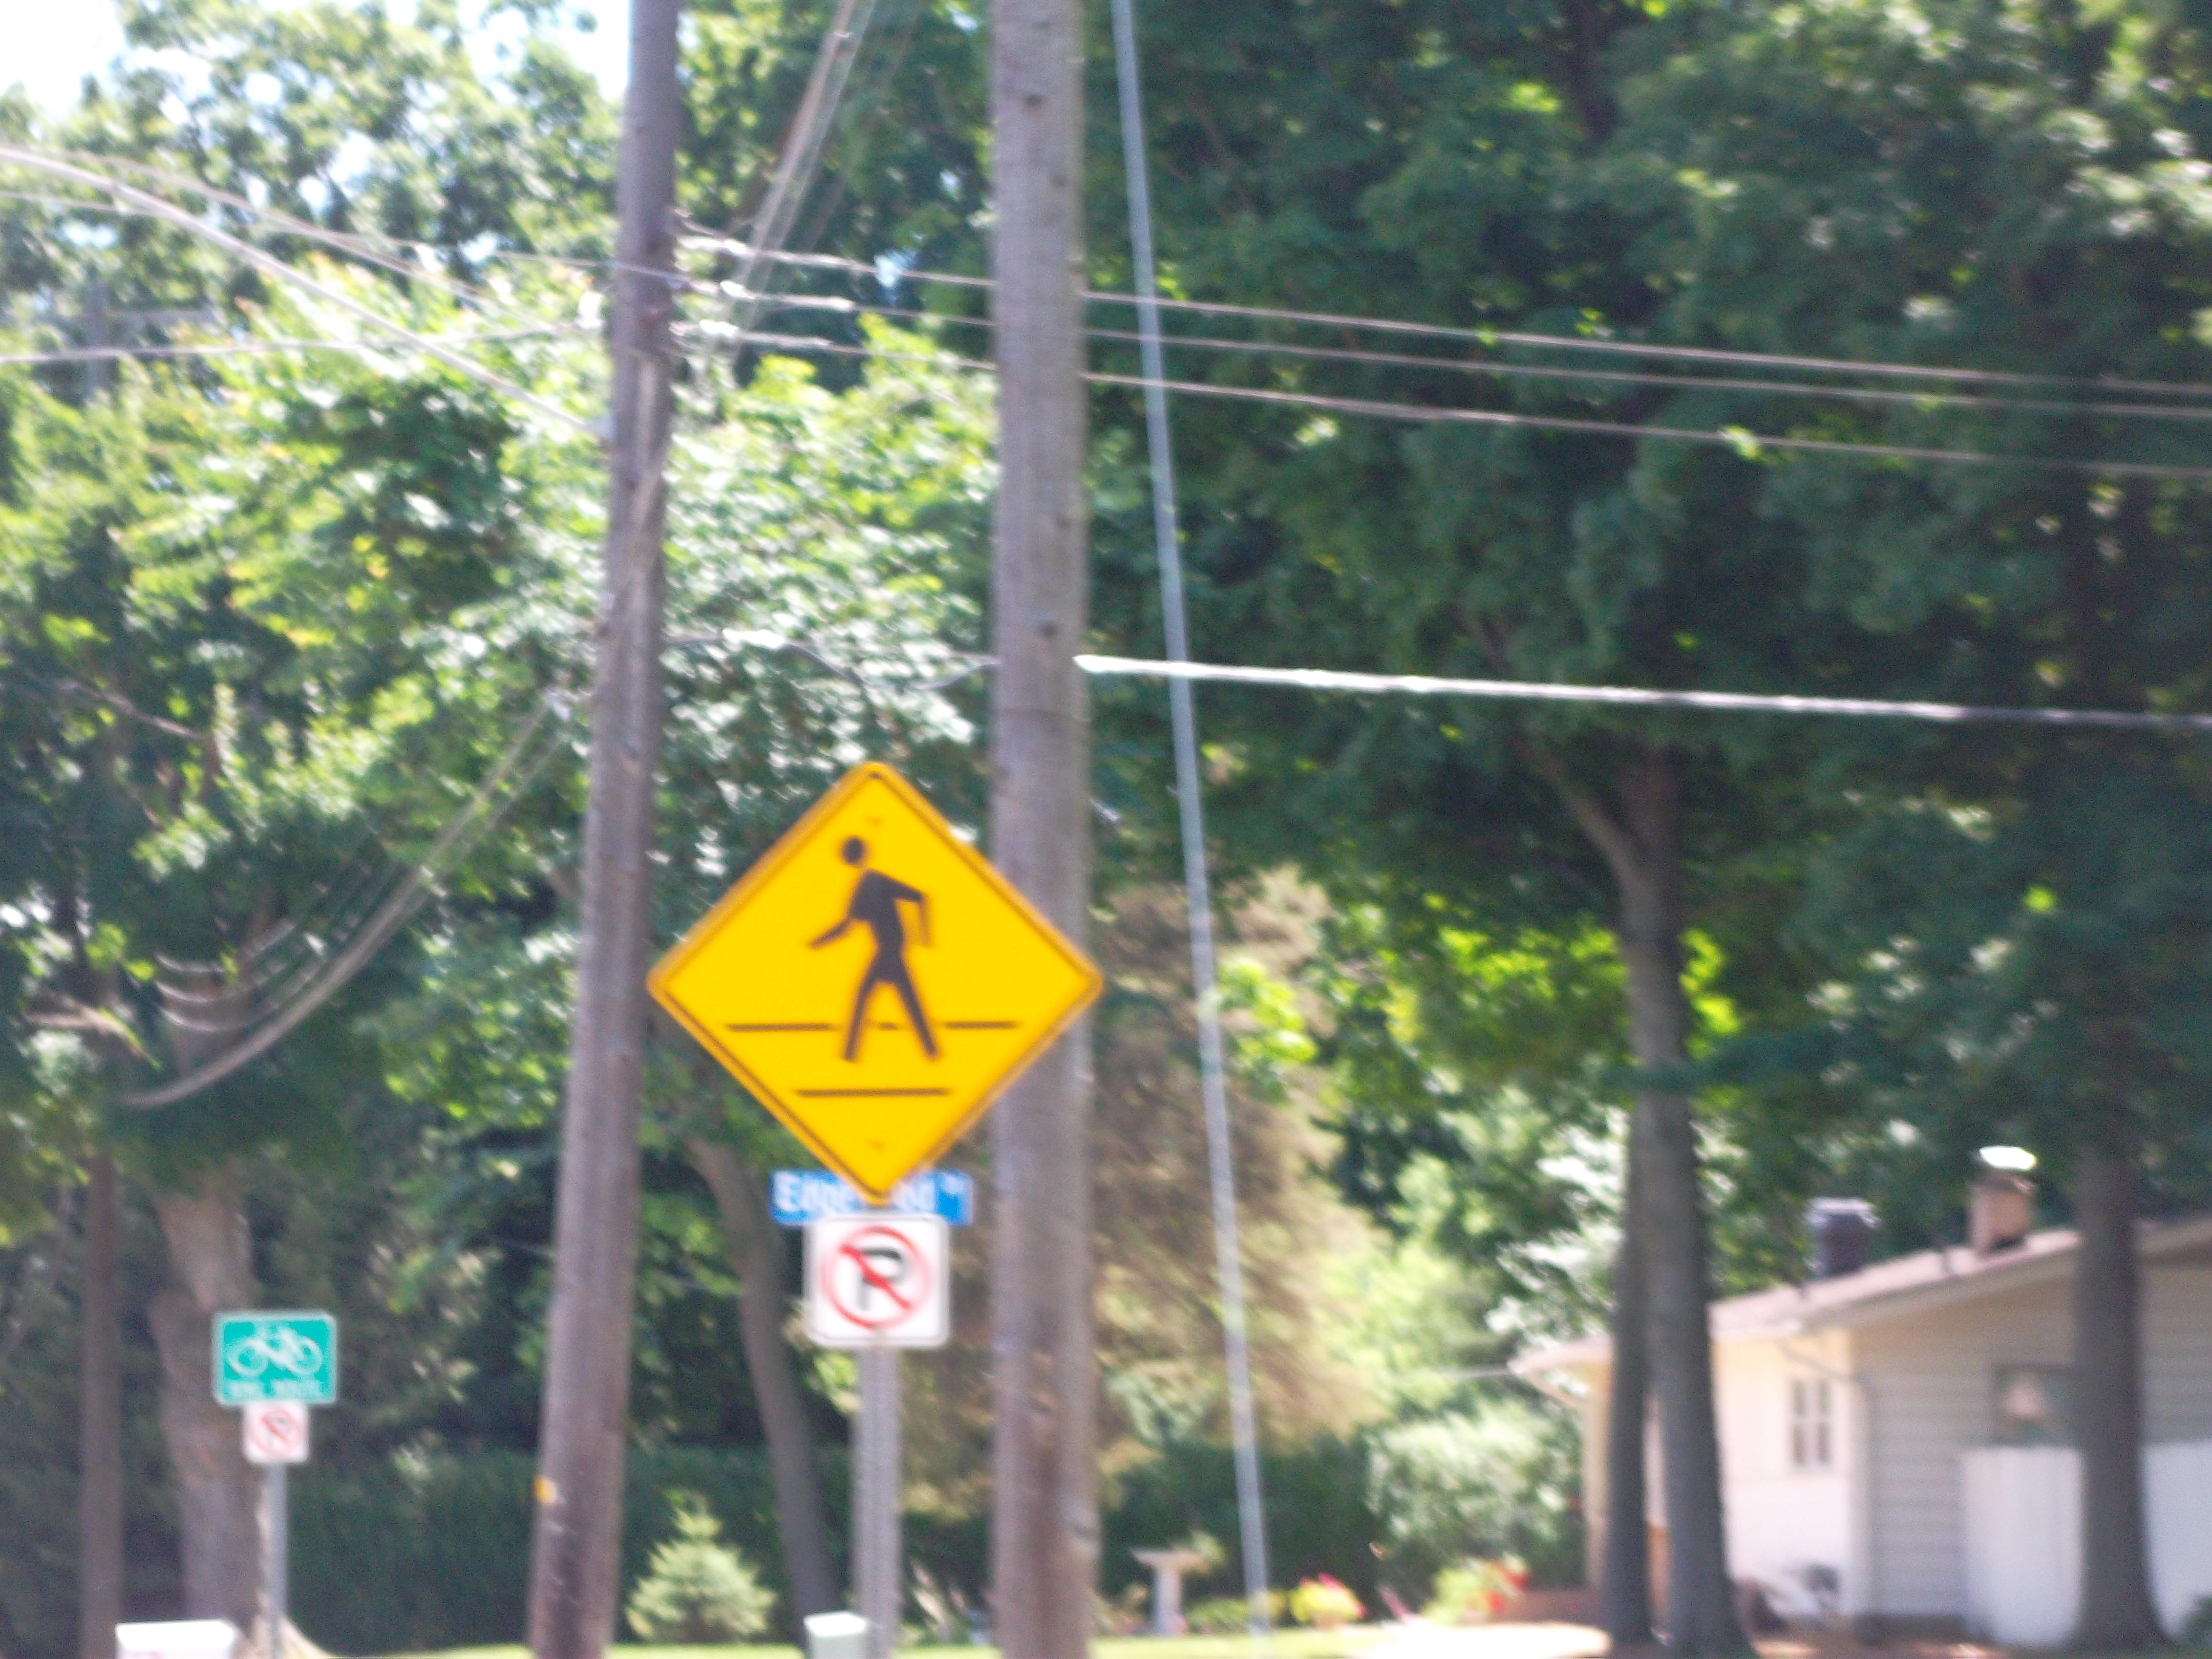regulatory: (780, 1192, 974, 1371)
warning: (636, 723, 1116, 1202)
